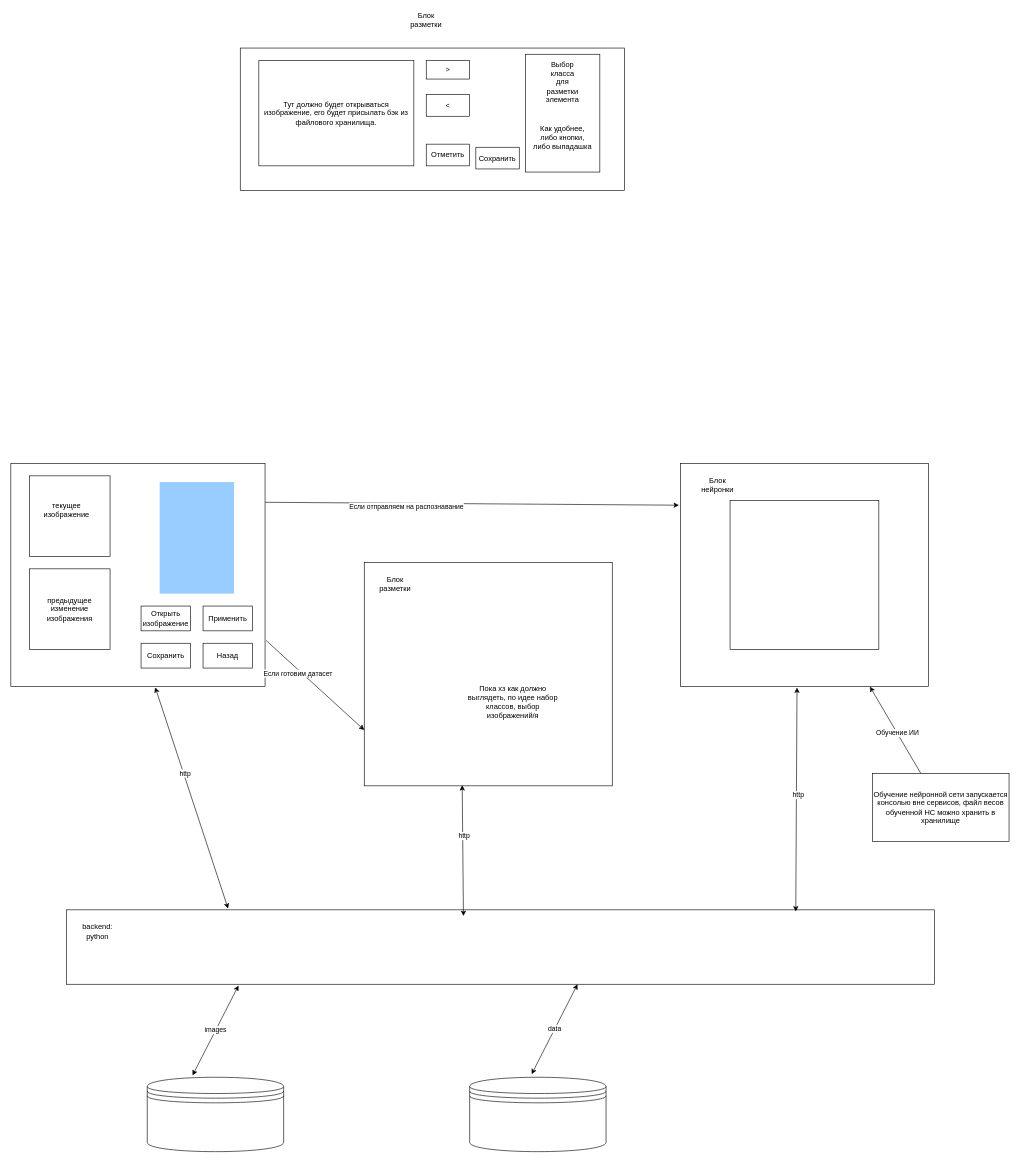
This 1020x1163 diagram has some shape labels left out. Here are the shapes that lost their labels. From the top down, the box of each, then its label:
(159, 482, 234, 593): Всякие ползунки и кнопочки
(729, 500, 879, 649): Результат распознавания
(147, 1077, 284, 1152): Minio
(469, 1077, 606, 1152): Postgres
